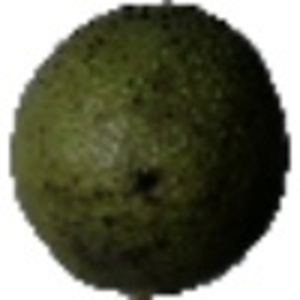abacate: (10, 3, 290, 295)
